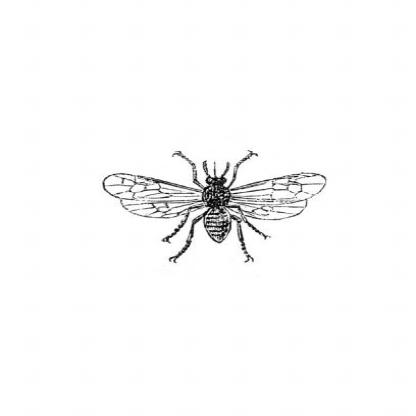sawfly: (98, 146, 323, 266)
